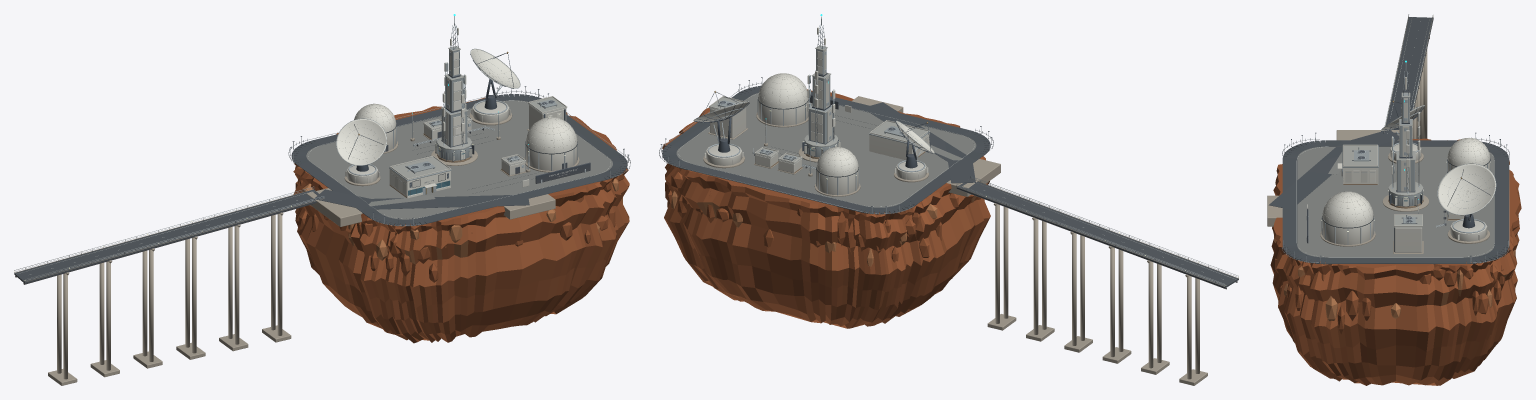
File: communications-outpost.glb
3 views of the same model, side by side, from view 1: azimuth 30°, elevation 25°; view 2: azimuth 150°, elevation 25°; view 3: azimuth 270°, elevation 25° (orthographic). The views are drawn at different scales.
Visible parts, largest first — view 1: Outpost / cliff, Outpost / concrete, Outpost / road, Outpost / paving, Outpost / ceramic, Outpost / ceramic-warm, Outpost / metal, Outpost / structure, Outpost / painted-alloy, Outpost / roof-alloy, Outpost / rock-highlight, Outpost / marking; view 2: Outpost / cliff, Outpost / concrete, Outpost / paving, Outpost / road, Outpost / ceramic-warm, Outpost / ceramic, Outpost / metal, Outpost / structure, Outpost / painted-alloy, Outpost / roof-alloy, Outpost / rock-highlight, Outpost / marking; view 3: Outpost / cliff, Outpost / paving, Outpost / road, Outpost / ceramic, Outpost / ceramic-warm, Outpost / concrete, Outpost / metal, Outpost / painted-alloy, Outpost / roof-alloy, Outpost / structure, Outpost / rock-highlight, Outpost / marking.
Part boxes in pixels (x1=…): Outpost / cliff: x1=293, y1=97, x2=629, y2=343; Outpost / concrete: x1=15, y1=112, x2=579, y2=385; Outpost / road: x1=14, y1=94, x2=627, y2=283; Outpost / paving: x1=306, y1=100, x2=612, y2=219; Outpost / ceramic: x1=336, y1=28, x2=577, y2=198; Outpost / ceramic-warm: x1=339, y1=50, x2=577, y2=194; Outpost / metal: x1=14, y1=16, x2=630, y2=280; Outpost / structure: x1=14, y1=26, x2=630, y2=284; Outpost / painted-alloy: x1=389, y1=46, x2=557, y2=181; Outpost / roof-alloy: x1=392, y1=46, x2=566, y2=179; Outpost / rock-highlight: x1=302, y1=178, x2=622, y2=264; Outpost / marking: x1=19, y1=100, x2=610, y2=281; Outpost / cliff: x1=662, y1=89, x2=990, y2=328; Outpost / concrete: x1=703, y1=96, x2=1238, y2=385; Outpost / paving: x1=676, y1=93, x2=976, y2=207; Outpost / road: x1=662, y1=85, x2=1238, y2=288; Outpost / ceramic-warm: x1=706, y1=49, x2=929, y2=194; Outpost / ceramic: x1=693, y1=27, x2=934, y2=179; Outpost / metal: x1=659, y1=16, x2=1238, y2=285; Outpost / structure: x1=659, y1=25, x2=1238, y2=289; Outpost / painted-alloy: x1=717, y1=46, x2=929, y2=160; Outpost / roof-alloy: x1=709, y1=45, x2=926, y2=163; Outpost / rock-highlight: x1=671, y1=191, x2=976, y2=266; Outpost / marking: x1=678, y1=93, x2=1235, y2=285; Outpost / cliff: x1=1270, y1=138, x2=1521, y2=385; Outpost / paving: x1=1297, y1=146, x2=1494, y2=257; Outpost / road: x1=1269, y1=17, x2=1508, y2=264; Outpost / ceramic: x1=1322, y1=77, x2=1495, y2=240; Outpost / ceramic-warm: x1=1307, y1=98, x2=1495, y2=252; Outpost / concrete: x1=1267, y1=17, x2=1489, y2=253; Outpost / metal: x1=1282, y1=14, x2=1509, y2=263; Outpost / painted-alloy: x1=1342, y1=93, x2=1448, y2=223; Outpost / roof-alloy: x1=1343, y1=92, x2=1423, y2=227; Outpost / structure: x1=1282, y1=19, x2=1509, y2=263; Outpost / rock-highlight: x1=1274, y1=236, x2=1515, y2=321; Outpost / marking: x1=1296, y1=17, x2=1494, y2=257.
Size of the model in its own units: 259 by 125 by 101.
